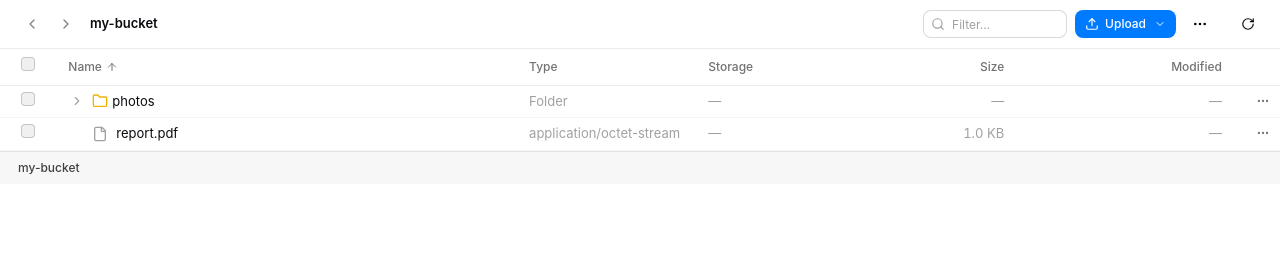
it: ObjectBrowser header bulk actions › shows selection actions disabled in the three-dots menu when nothing is selected
Expected: the text "report.pdf" is shown, [116,125,178,141]
What coordinates should you click on to do the following:
click the button with test id "overflow-menu-trigger"
I would click on:
 (1200, 24)
Its box is [1184,8,1216,40].
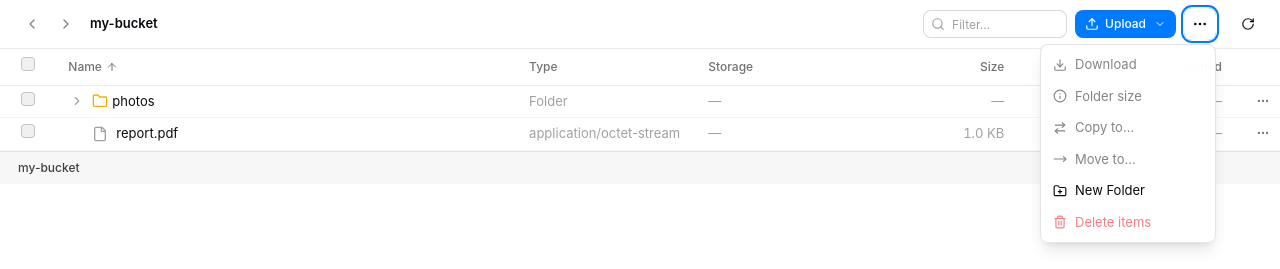
Now the menu item "Download" is disabled, box [1041,49,1215,80]
Now the menu item "Copy to…" is disabled, box [1041,112,1215,144]
Now the menu item "Move to…" is disabled, box [1041,144,1215,175]
